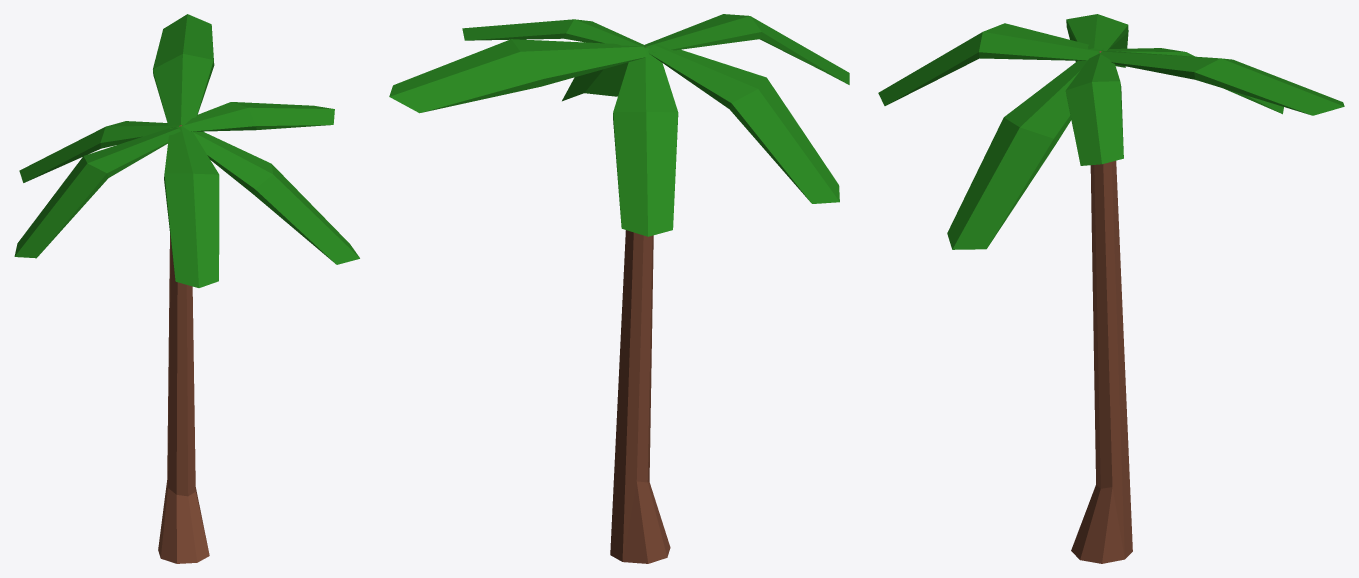
Rendered from Tree_39_summer_mat.fbx.
3 views of the same model, side by side, from view 1: azimuth 30°, elevation 25°; view 2: azimuth 150°, elevation 25°; view 3: azimuth 270°, elevation 25° (orthographic). The views are drawn at different scales.
Parts seen in each view (by area): view 1: Tree_39_summer_mat; view 2: Tree_39_summer_mat; view 3: Tree_39_summer_mat.
Part boxes in pixels (x1,y1,x2,y2): Tree_39_summer_mat: [14, 14, 359, 563]; Tree_39_summer_mat: [389, 14, 849, 563]; Tree_39_summer_mat: [878, 14, 1344, 563].
Bounding box in the file's own units: 6.09 × 8.16 × 6.63.
